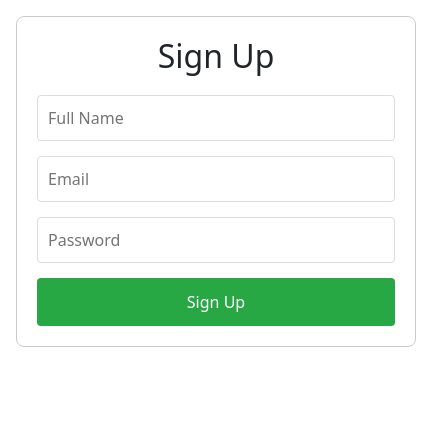
Test: Signup Component › shows an error message when email is already taken
In the field with placeholder "Full Name": point(216, 118) x1=37 y1=95 x2=395 y2=141, type "Existing User"
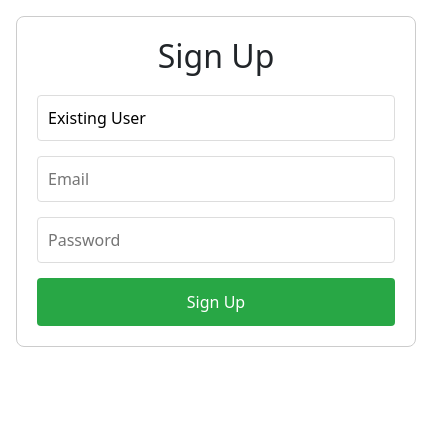
In the field with placeholder "Email": point(216, 179) x1=37 y1=156 x2=395 y2=202, type "existing@example.com"
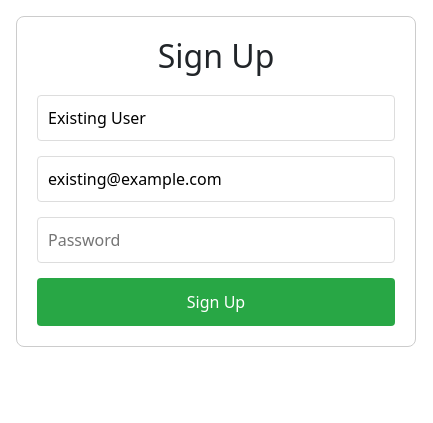
In the password field with placeholder "Password": point(216, 240) x1=37 y1=217 x2=395 y2=263, type "secret"
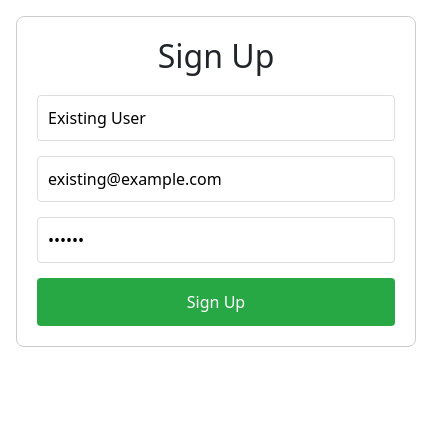
Click the button "Sign Up": point(216, 302) x1=37 y1=278 x2=395 y2=326
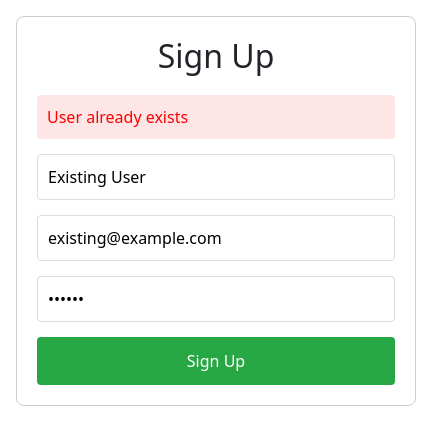
expect the text "User already exists" is shown: met, box x1=37 y1=95 x2=395 y2=139
